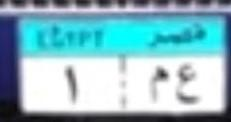1: (55, 64, 89, 105)
ain: (175, 60, 202, 107)
meem: (147, 63, 171, 105)
